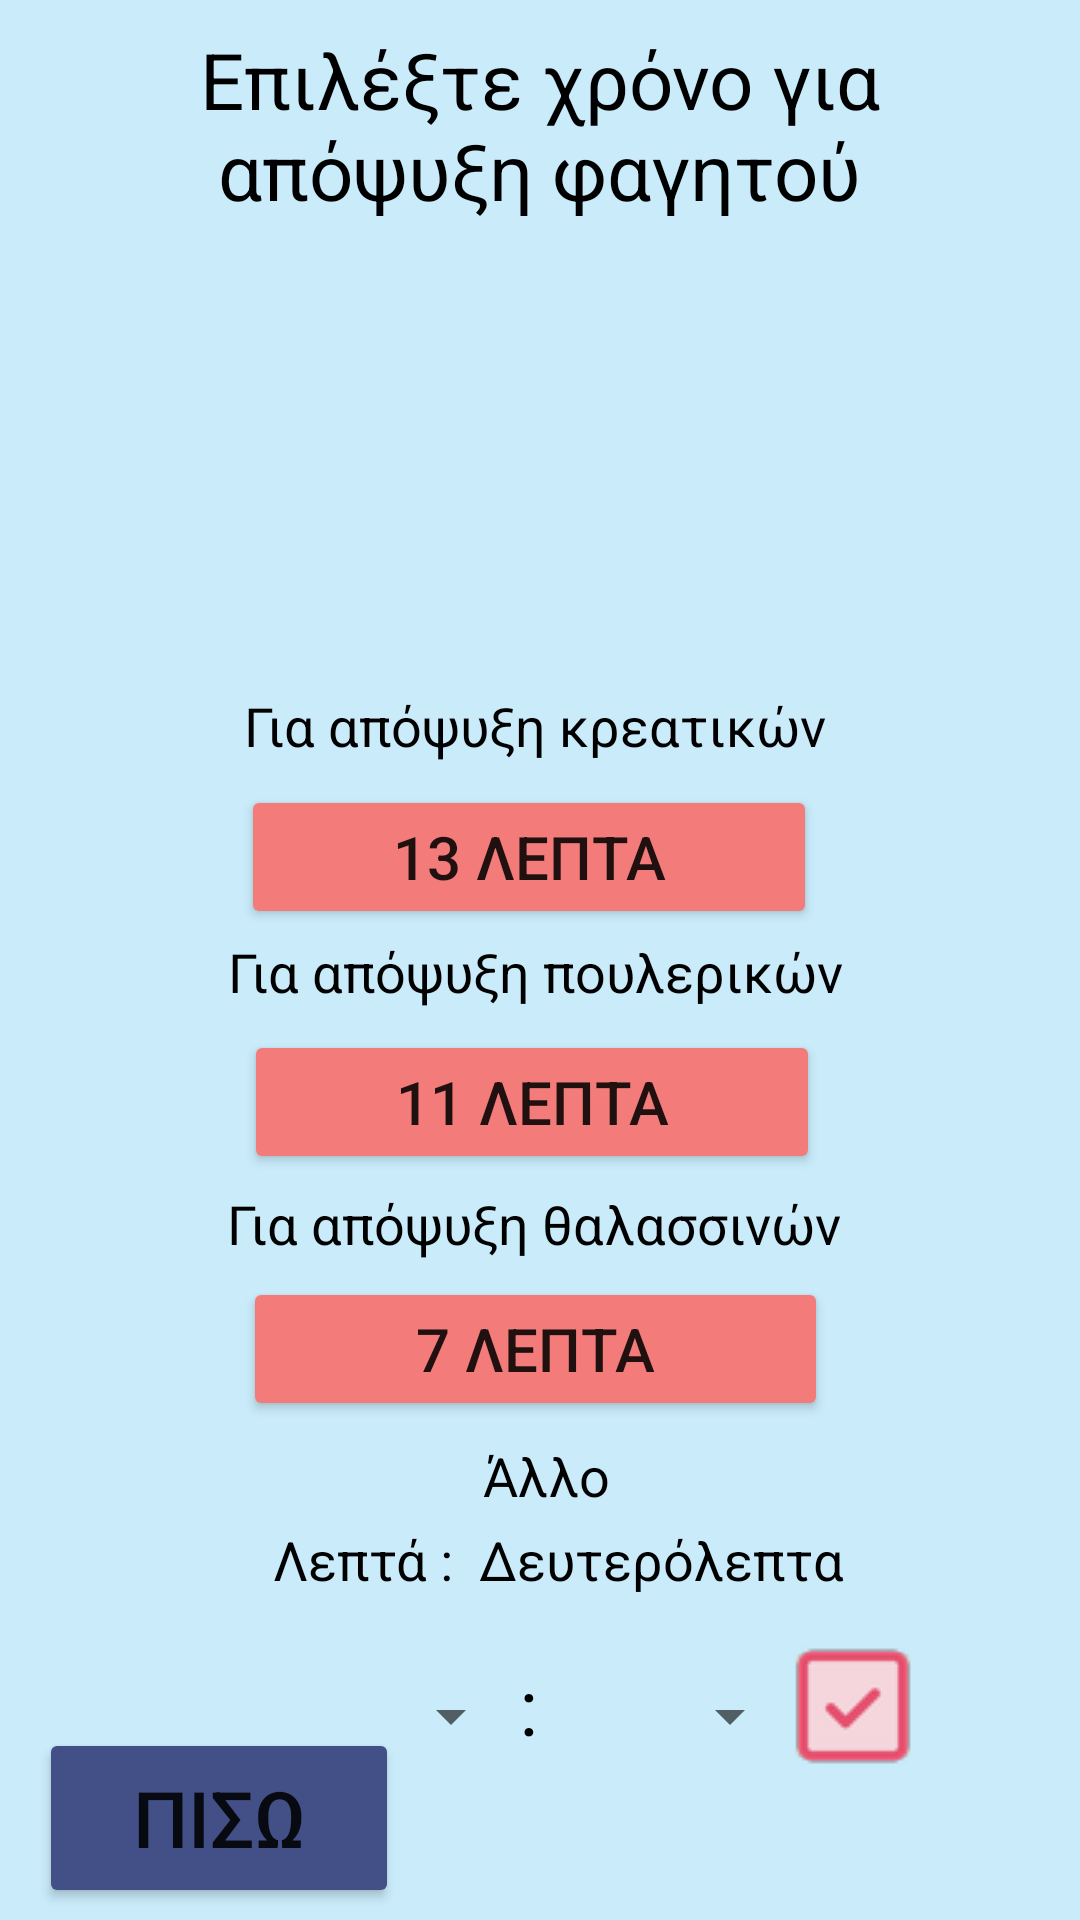

Where icons sit on this 1080w x 1920h app screen, as (x1, y1, x2, y2):
tick: (796, 1649, 910, 1763)
